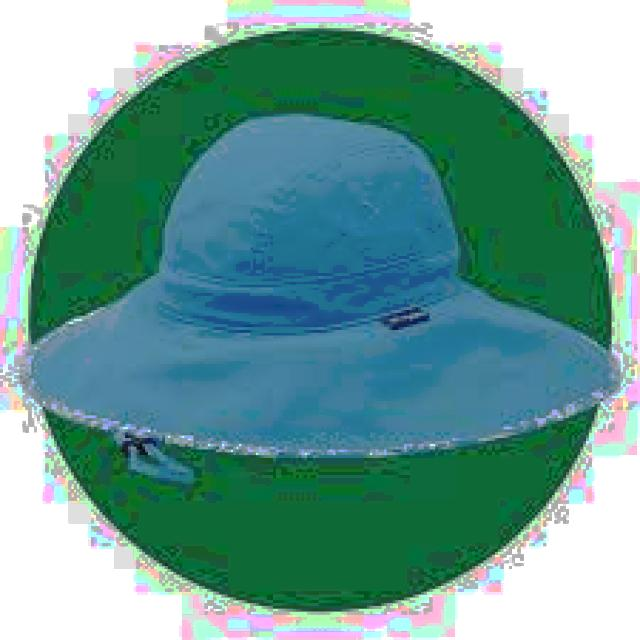TOPI: (17, 100, 623, 475)
